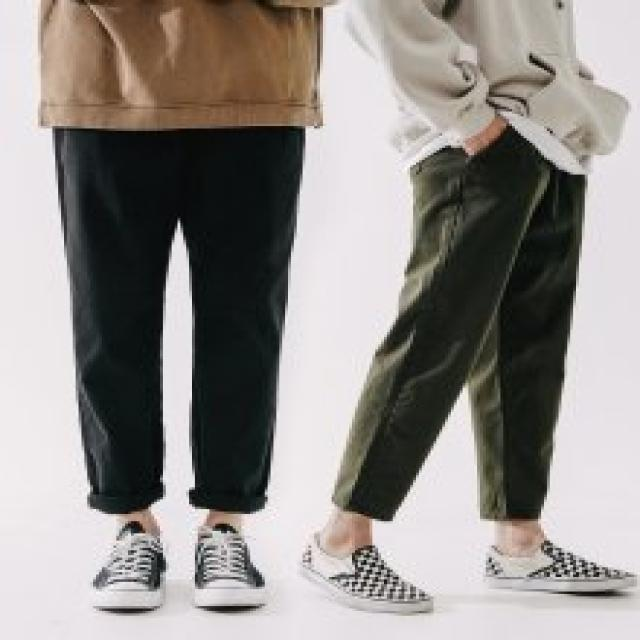long-pants: (37, 122, 309, 514), (328, 133, 587, 521)
